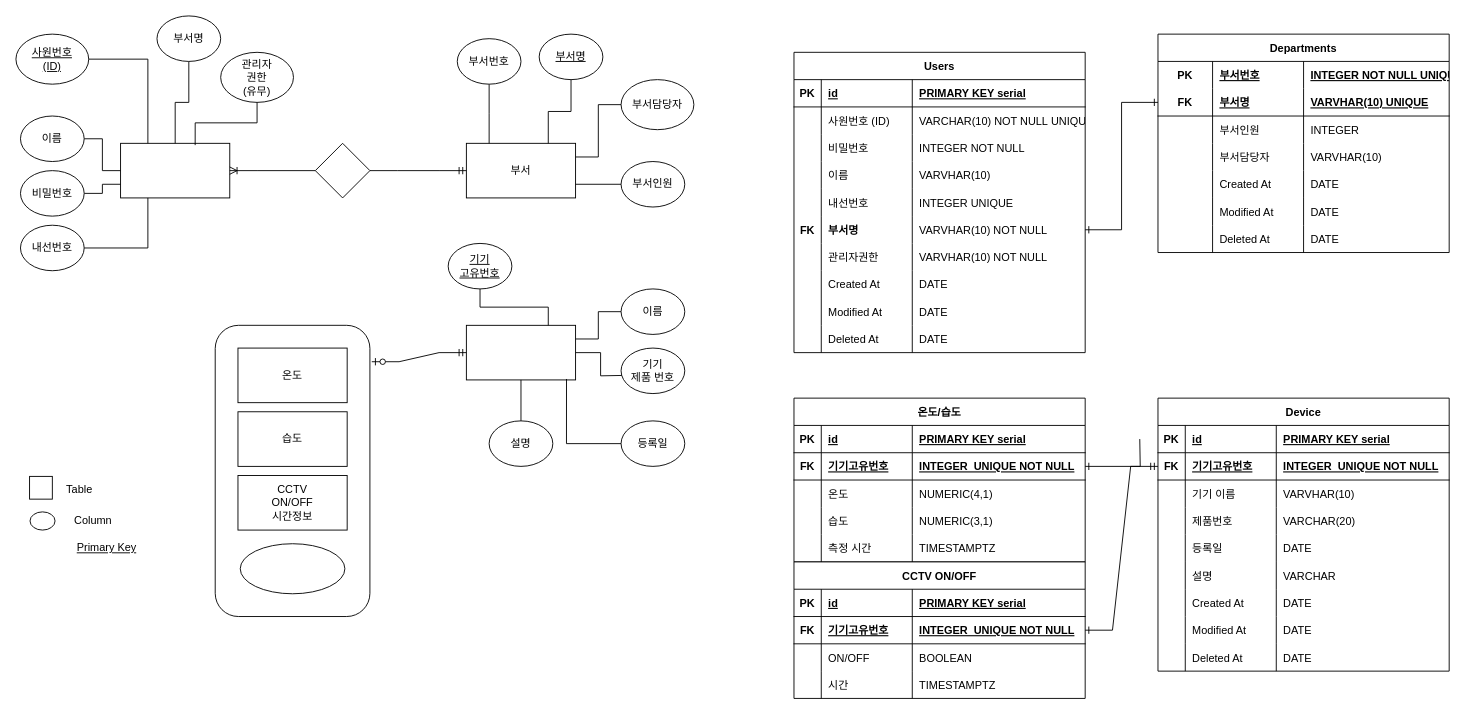
This 1478x714 diagram has some shape labels left out. Each missing label, with the centre of its shape:
CCTV: point 292,568
사용자: point 175,170
설비: point 520,352
소속: point 342,170
